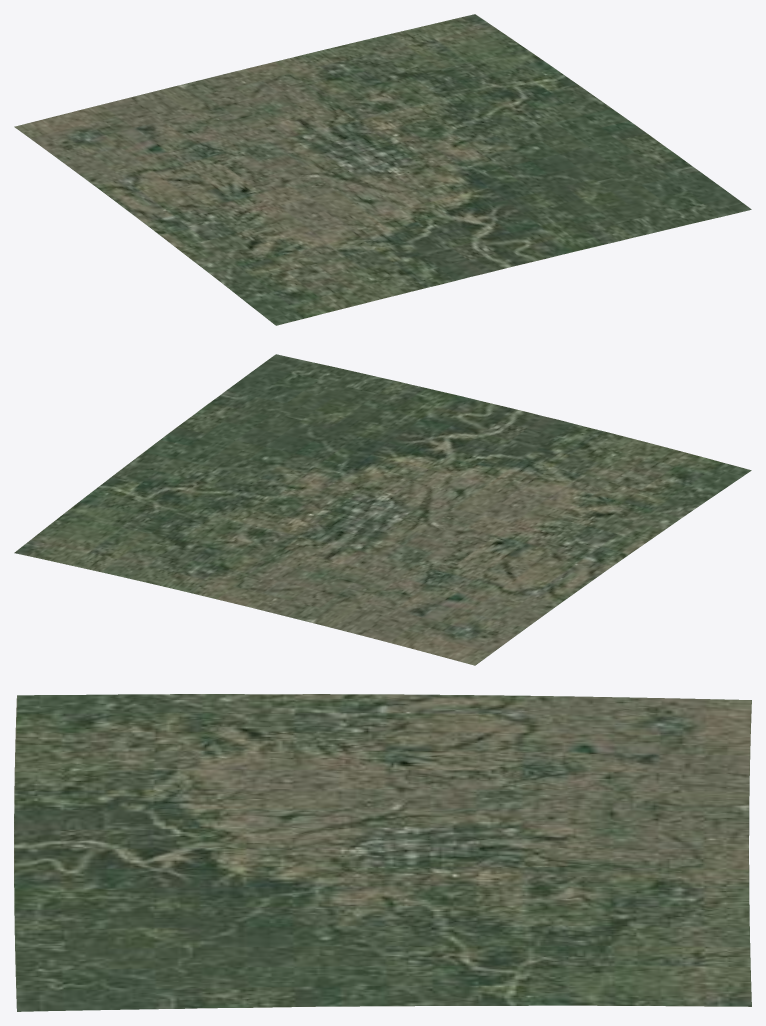
The picture shows the model from 3 angles, top to bottom: view 1: azimuth 30°, elevation 25°; view 2: azimuth 150°, elevation 25°; view 3: azimuth 270°, elevation 25°; orthographic projection. The views are drawn at different scales.
Bounding box in the file's own units: 244228 × 2325 × 240460.
Materials: 1 (1 with a texture image).
